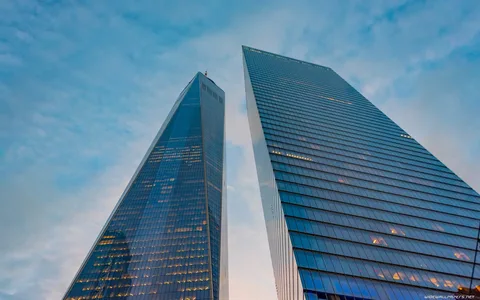high_rise_building: (254, 46, 416, 300), (153, 72, 236, 300)
